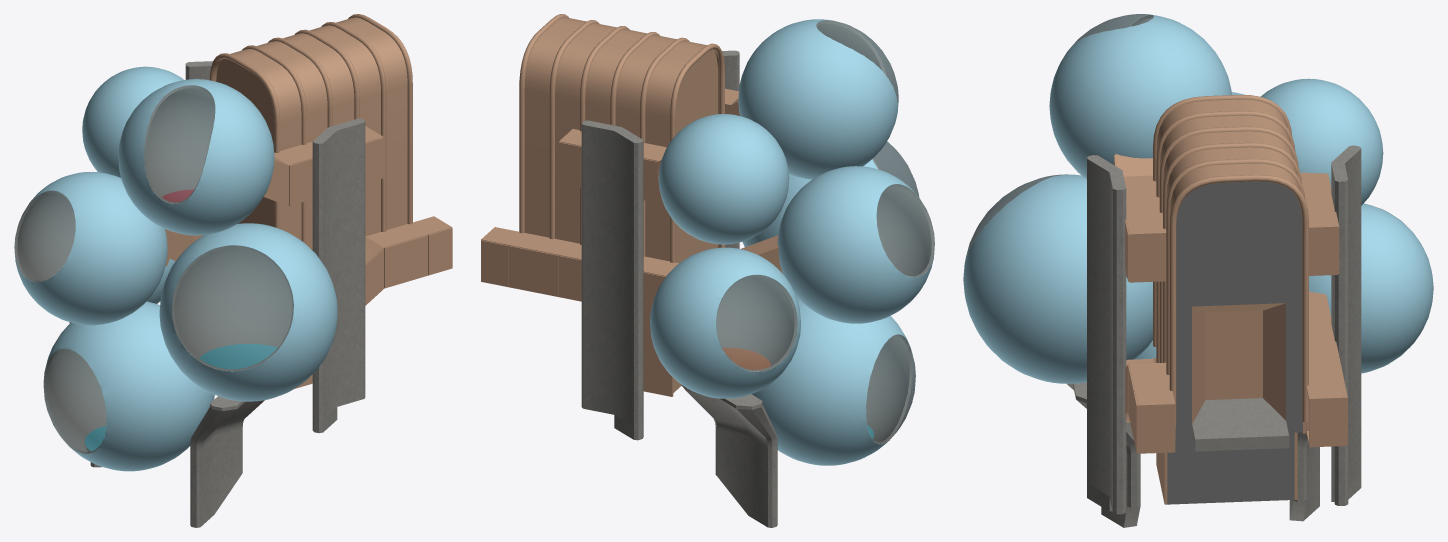
The model's file is ffk.glb.
The picture shows the model from 3 angles, left to right: view 1: azimuth 30°, elevation 25°; view 2: azimuth 150°, elevation 25°; view 3: azimuth 270°, elevation 25°; orthographic projection. The views are drawn at different scales.
Visible parts, largest first — view 1: Sphere027, Sphere033.001, Box012, FFK, Box019, Shape004, Box014, Cylinder007, Box013; view 2: Sphere027, Box013, FFK, Sphere033.001, Box019, Shape004, Box014, Cylinder007, Box012; view 3: Sphere027, Box014, Box019, Box012, Box013, Shape004, FFK, Sphere033.001.
Boxes of the visible parts, box(x1,y1,x2,y2) form: Sphere027: box(14, 66, 337, 471); Sphere033.001: box(14, 85, 293, 453); Box012: box(190, 118, 365, 527); FFK: box(215, 17, 407, 388); Box019: box(165, 126, 452, 305); Shape004: box(209, 14, 412, 244); Box014: box(216, 59, 274, 226); Cylinder007: box(85, 189, 277, 451); Box013: box(69, 61, 212, 467); Sphere027: box(650, 19, 934, 465); Box013: box(581, 120, 777, 527); FFK: box(524, 17, 719, 396); Sphere033.001: box(716, 20, 934, 444); Box019: box(481, 88, 782, 315); Shape004: box(519, 14, 724, 262); Box014: box(673, 49, 717, 392); Cylinder007: box(723, 348, 873, 438); Box012: box(722, 50, 739, 248); Sphere027: box(963, 15, 1433, 383); Box014: box(1167, 181, 1302, 504); Box019: box(1114, 153, 1347, 453); Box012: box(1066, 155, 1140, 527); Box013: box(1289, 145, 1361, 521); Shape004: box(1153, 95, 1308, 426); FFK: box(1156, 99, 1305, 504); Sphere033.001: box(965, 14, 1400, 261).
Size of the model in its own units: 15.14 by 15.71 by 13.41.
11 materials, 1 textured.
